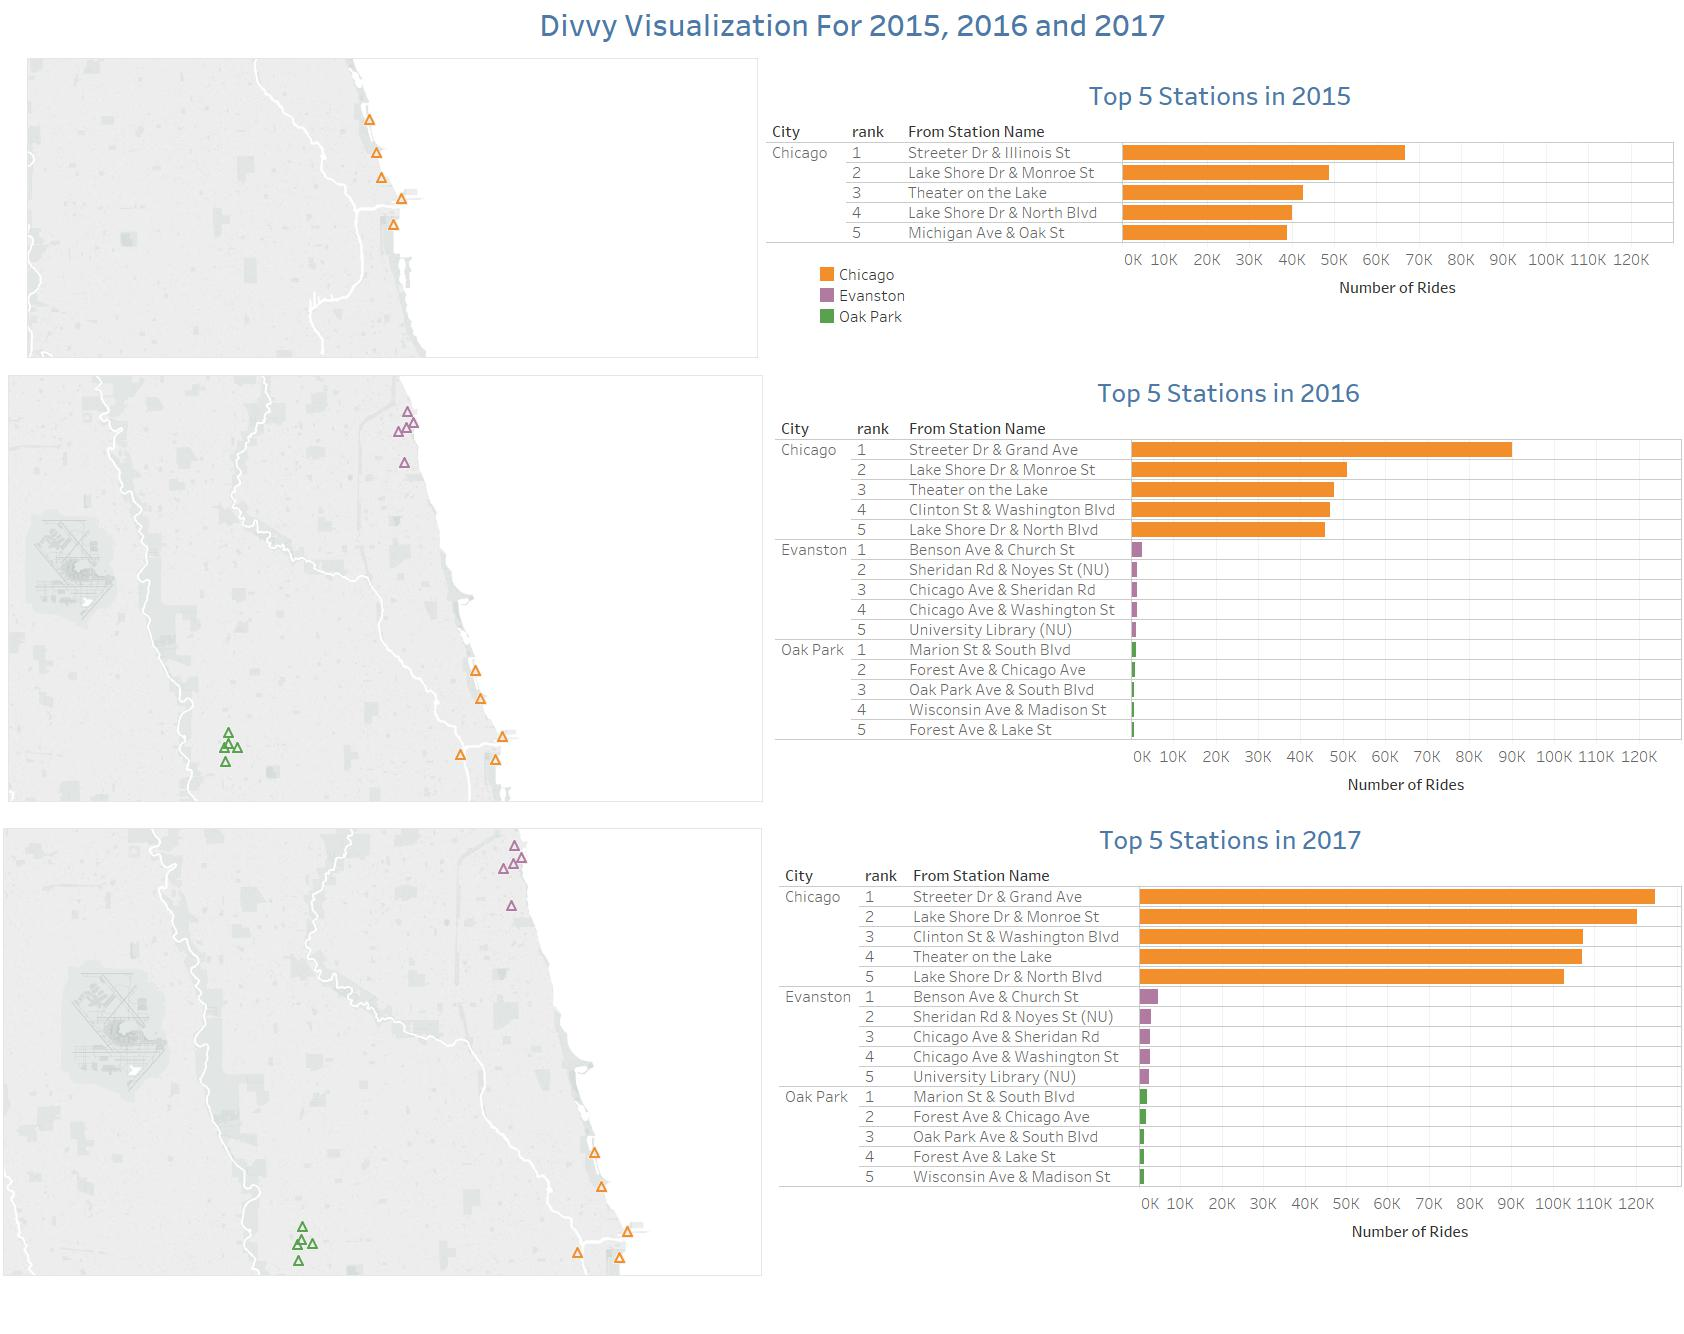

Layout of this report page (visuals, bound fields, positions):
{"tool":"tableau","page":{"name":"Divvy_Dashboard","canvas":[1700,1350],"ordinal":0},"visuals":[{"type":"title","box":[39,11,1643.3,41]},{"type":"worksheet","title":"Map2015","mark":"Shape","rows":["latitude"],"cols":["longitude"],"box":[35.3,66,730.4,300]},{"type":"worksheet","title":"2015","mark":"Automatic","rows":["city","Calculation_155374221768900608","from_station_name"],"cols":["Number of Records"],"box":[774.5,80,919.3,263]},{"type":"legend","title":"2016","param":"[federated.0qhv2do1ell3ab1fm9aj20w479ls].[none:city:nk]","box":[824.8,272,200.2,71]},{"type":"worksheet","title":"2016","mark":"Automatic","rows":["city","Calculation_155374221768900608","from_station_name"],"cols":["Number of Records"],"box":[783.3,377,906.7,434]},{"type":"worksheet","title":"Map2016","mark":"Shape","rows":["latitude"],"cols":["longitude"],"box":[16.4,383,754.3,427]},{"type":"worksheet","title":"2017","mark":"Automatic","rows":["city","Calculation_155374221768900608","from_station_name"],"cols":["Number of Records"],"box":[787,824,903,434]},{"type":"worksheet","title":"Map2017","mark":"Shape","rows":["latitude"],"cols":["longitude"],"box":[11,836,759,448]}]}

Visuals, with their boxes in screenshot pixels (x1, y1, x2, y2), scaled from the page's 1700x1350 canvas onto the 1684x1334 screenshot:
title: Rect(39, 11, 1666, 51)
"Map2015" worksheet (Shape marks): Rect(35, 65, 758, 362)
"2015" worksheet: Rect(767, 79, 1678, 339)
"2016" legend: Rect(817, 269, 1015, 339)
"2016" worksheet: Rect(776, 373, 1674, 801)
"Map2016" worksheet (Shape marks): Rect(16, 378, 763, 800)
"2017" worksheet: Rect(780, 814, 1674, 1243)
"Map2017" worksheet (Shape marks): Rect(11, 826, 763, 1269)
